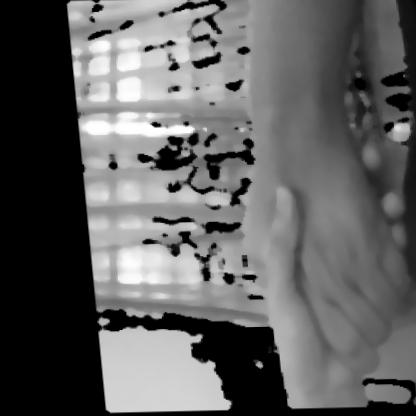handshake: (182, 2, 415, 403)
